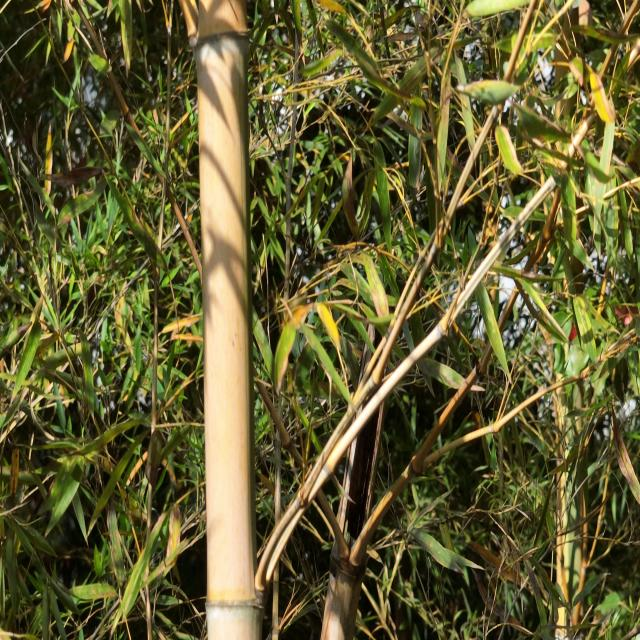Bamboo-shoots: (198, 0, 261, 640)
